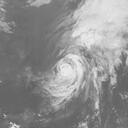cyclone: (46, 54, 88, 99)
